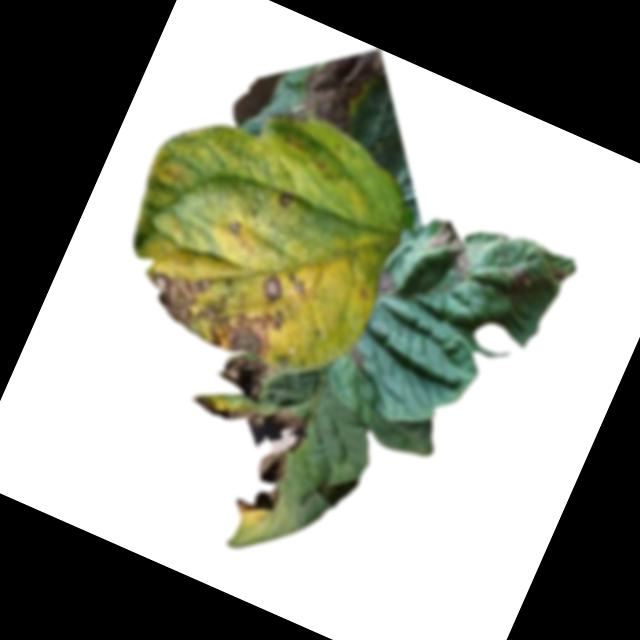Early_blight: (154, 374, 315, 532), (134, 254, 294, 369), (290, 26, 393, 141), (417, 216, 484, 280), (212, 344, 282, 405), (499, 261, 541, 303), (255, 269, 289, 307), (371, 269, 398, 301), (343, 346, 367, 371), (274, 189, 296, 213), (547, 264, 570, 284), (225, 218, 243, 238)
